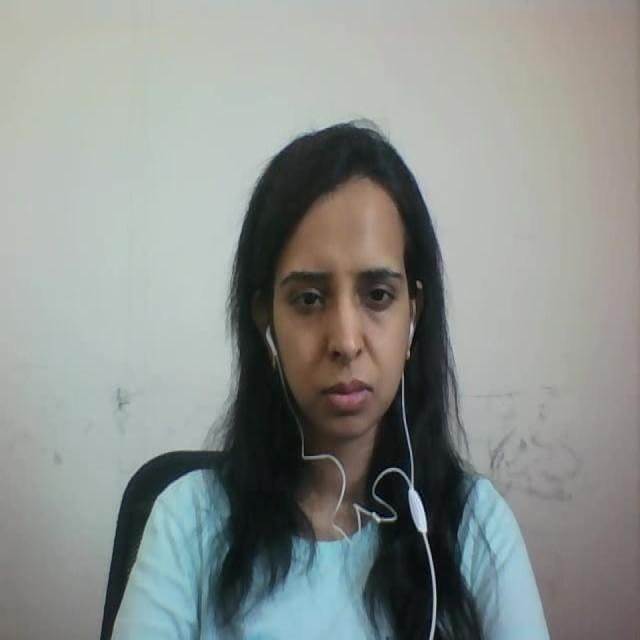Engaged: (221, 130, 464, 480)
